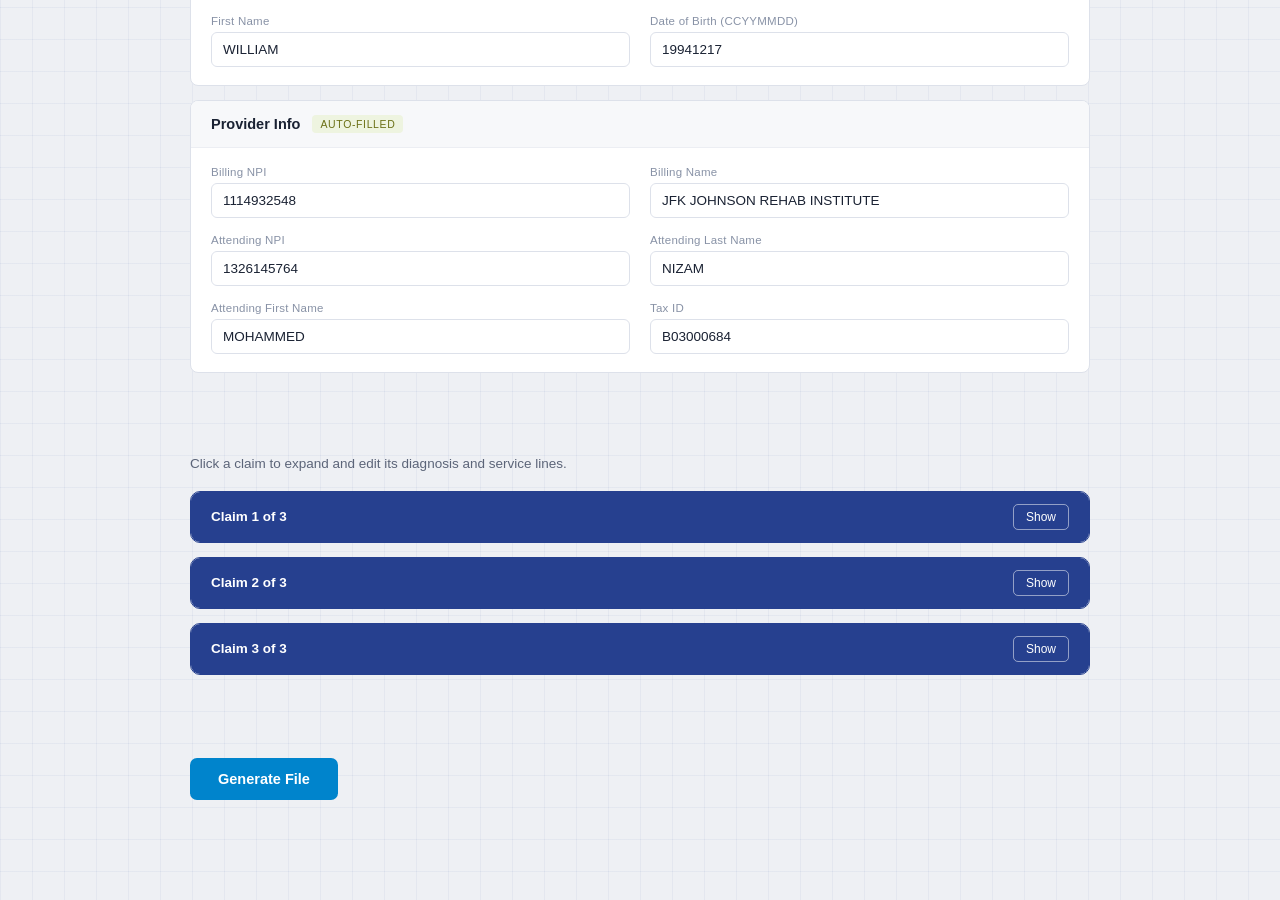
Test case: the claim card › hides the remove control when only one line is left
(page scrolled)
Click the 1st button "Show" at [1041, 516], box [1013,504,1069,530]
(page scrolled)
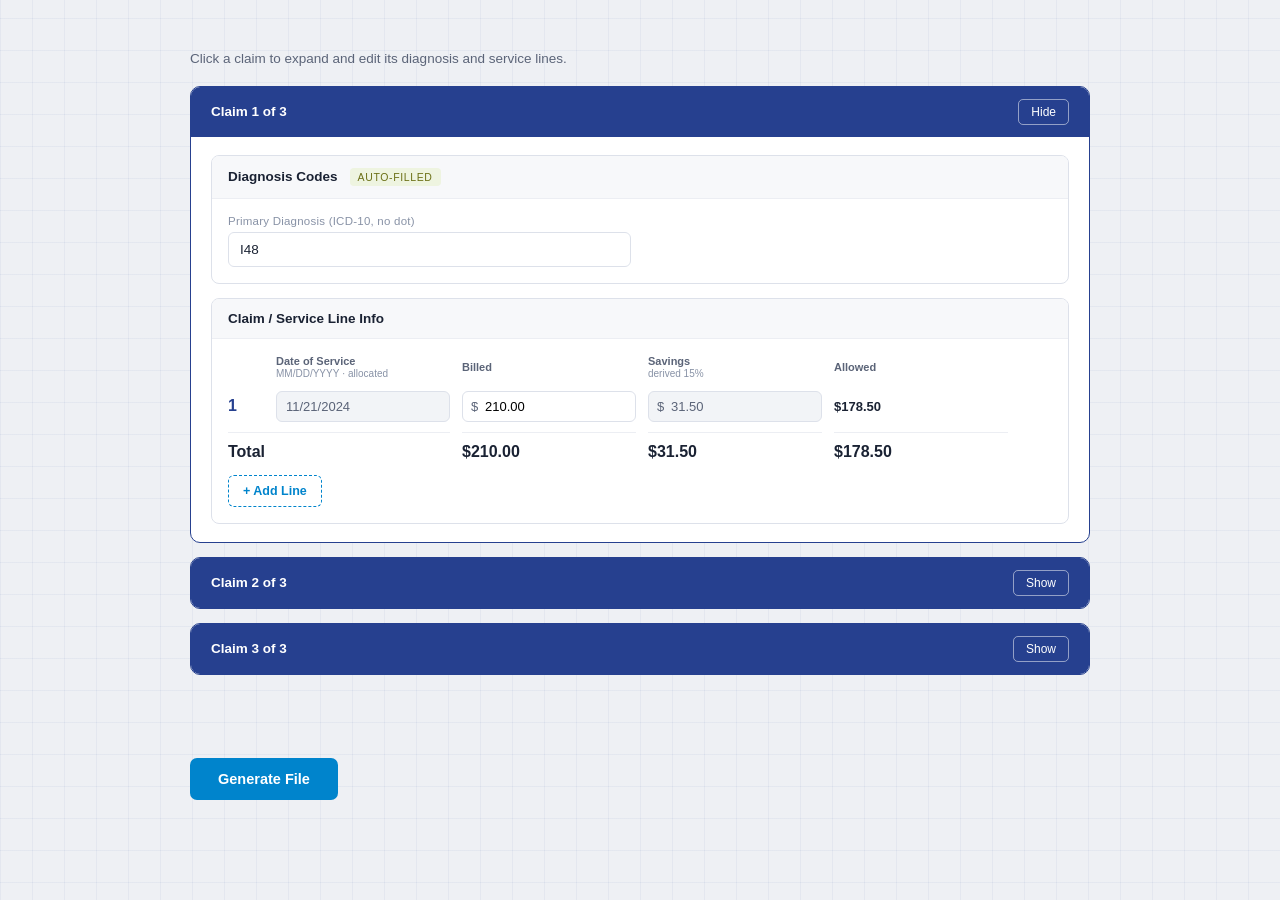
Click the button "+ Add Line" at [275, 490], box [228,474,322,506]
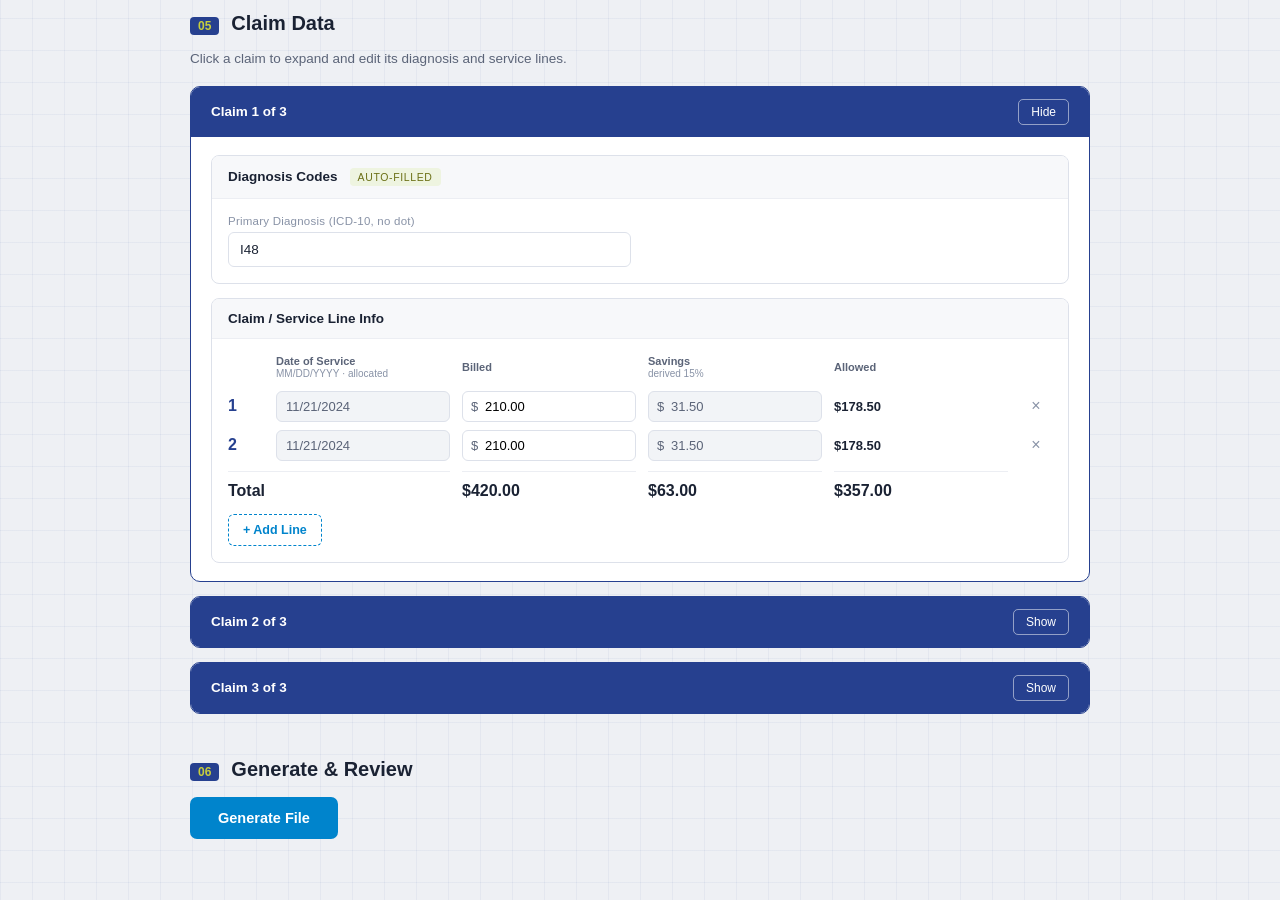
Result: the number of buttons named "Remove line" is 2 at [1020,396,1052,416]; [1020,435,1052,455]
